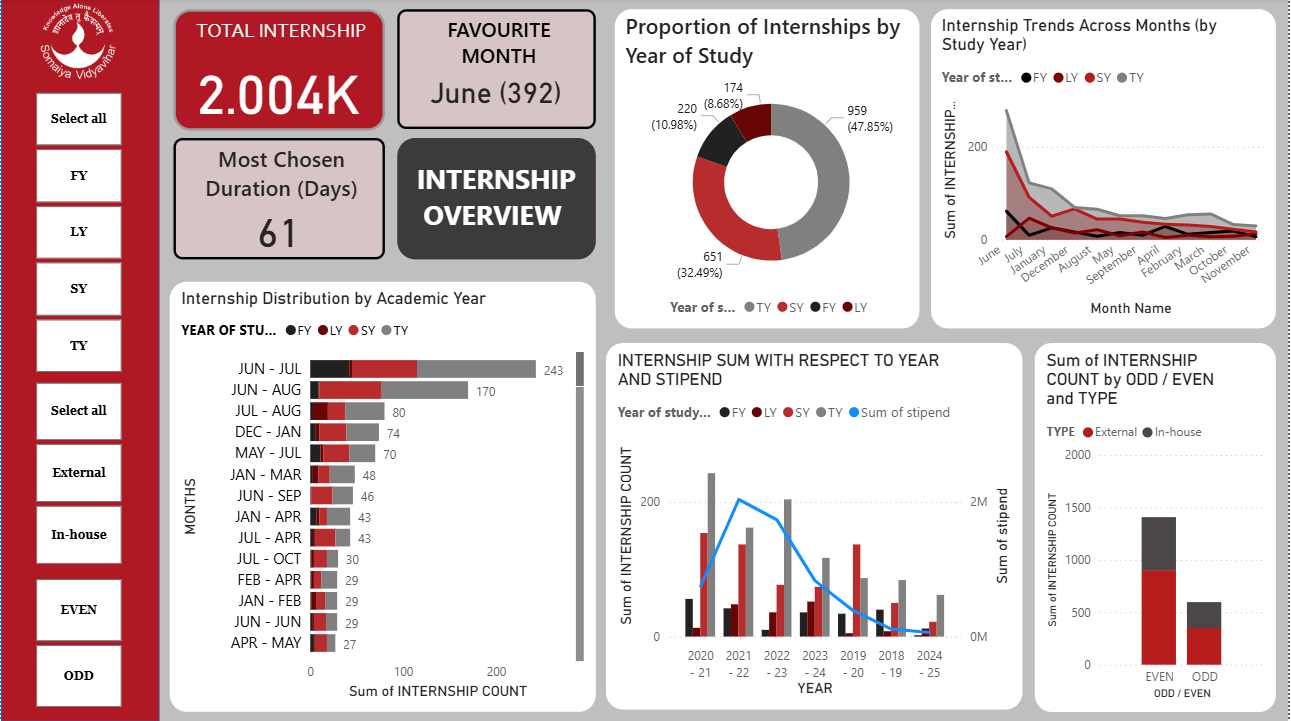

The dashboard page shown, as its layout file describes it:
{"tool":"powerbi","page":{"name":"Page 1","canvas":[1280,720],"ordinal":0},"visuals":[{"type":"cardVisual","title":"Most Chosen Duration (Days)","fields":{"Data":["Sheet1.AverageDuration"]},"box":[171.7,139.3,210.2,120.7],"z":0},{"type":"cardVisual","title":"FAVOURITE MONTH","fields":{"Data":["Sheet1.MostPopularStartMonthLabel"]},"box":[394.3,11.2,197.8,119.4],"z":1000},{"type":"cardVisual","title":"TOTAL INTERNSHIP","fields":{"Data":["CountNonNull(Sheet1.Paid)"]},"box":[171.7,11.2,210.2,120.7],"z":2000},{"type":"columnChart","fields":{"Category":["Sheet1.ODD / EVEN"],"Series":["Sheet1.TYPE"],"Y":["Sum(Sheet1.INTERNSHIP COUNT )"]},"box":[1028.8,343.3,240.1,367],"z":3000},{"type":"lineClusteredColumnComboChart","title":"INTERNSHIP SUM WITH RESPECT TO YEAR AND STIPEND","fields":{"Category":["Sheet1.YEAR"],"Y":["Sum(Sheet1.INTERNSHIP COUNT )"],"Y2":["Sum(Sheet1.stipend)"],"Series":["Sheet1.Year of study (FY/SY/TY/LY)"]},"box":[602.1,343.3,414.2,364.5],"z":4000},{"type":"shape","box":[0,0,158,720.3],"z":5000},{"type":"image","box":[34.8,0,84.6,85.8],"z":6000},{"type":"slicer","fields":{"Values":["Sheet1.Year of study (FY/SY/TY/LY)"]},"box":[8.7,92.1,135.6,282.4],"z":7000},{"type":"slicer","fields":{"Values":["Sheet1.TYPE"]},"box":[8.7,380.7,135.6,184.1],"z":8000},{"type":"slicer","fields":{"Values":["Sheet1.ODD / EVEN"]},"box":[8.7,576,135.6,131.9],"z":9000},{"type":"textbox","box":[394.3,139.3,197.8,120.7],"z":10000},{"type":"areaChart","title":"Internship Trends Across Months (by Study Year)","fields":{"Category":["Sheet1.Month Name"],"Y":["Sum(Sheet1.INTERNSHIP COUNT)"],"Series":["Sheet1.Year of study (FY/SY/TY/LY)"]},"box":[925.5,11.2,343.3,317.2],"z":12000},{"type":"donutChart","title":"Proportion of Internships by Year of Study","fields":{"Category":["Sheet1.Year of study (FY/SY/TY/LY)"],"Y":["Sum(Sheet1.INTERNSHIP COUNT )"]},"box":[610.8,11.2,303.5,317.2],"z":13000},{"type":"barChart","title":"Internship Distribution by Academic Year","fields":{"Y":["Sum(Sheet1.INTERNSHIP COUNT )"],"Category":["Sheet1.MONTHS"],"Series":["Sheet1.Year of study (FY/SY/TY/LY)"]},"box":[167.9,282.4,424.2,427.9],"z":15000}]}

Visuals, with their boxes in screenshot pixels (x1, y1, x2, y2), scaled from the page's 1280x720 canvas onto the 1291x721 screenshot:
"Most Chosen Duration (Days)" cardVisual: 173/139/385/260
"FAVOURITE MONTH" cardVisual: 398/11/597/131
"TOTAL INTERNSHIP" cardVisual: 173/11/385/132
columnChart - Sheet1.ODD / EVEN x Sheet1.TYPE: 1038/344/1280/711
"INTERNSHIP SUM WITH RESPECT TO YEAR AND STIPEND" lineClusteredColumnComboChart: 607/344/1025/709
shape: 0/0/159/720
image: 35/0/120/86
slicer - Sheet1.Year of study (FY/SY/TY/LY): 9/92/146/375
slicer - Sheet1.TYPE: 9/381/146/566
slicer - Sheet1.ODD / EVEN: 9/577/146/709
textbox: 398/139/597/260
"Internship Trends Across Months (by Study Year)" areaChart: 933/11/1280/329
"Proportion of Internships by Year of Study" donutChart: 616/11/922/329
"Internship Distribution by Academic Year" barChart: 169/283/597/711
